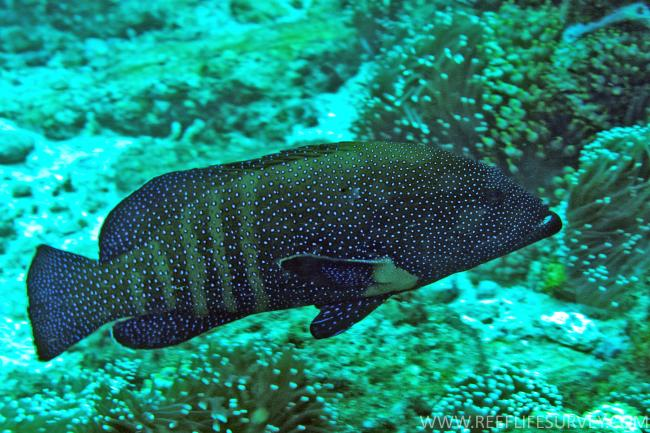fish: (25, 140, 560, 362)
